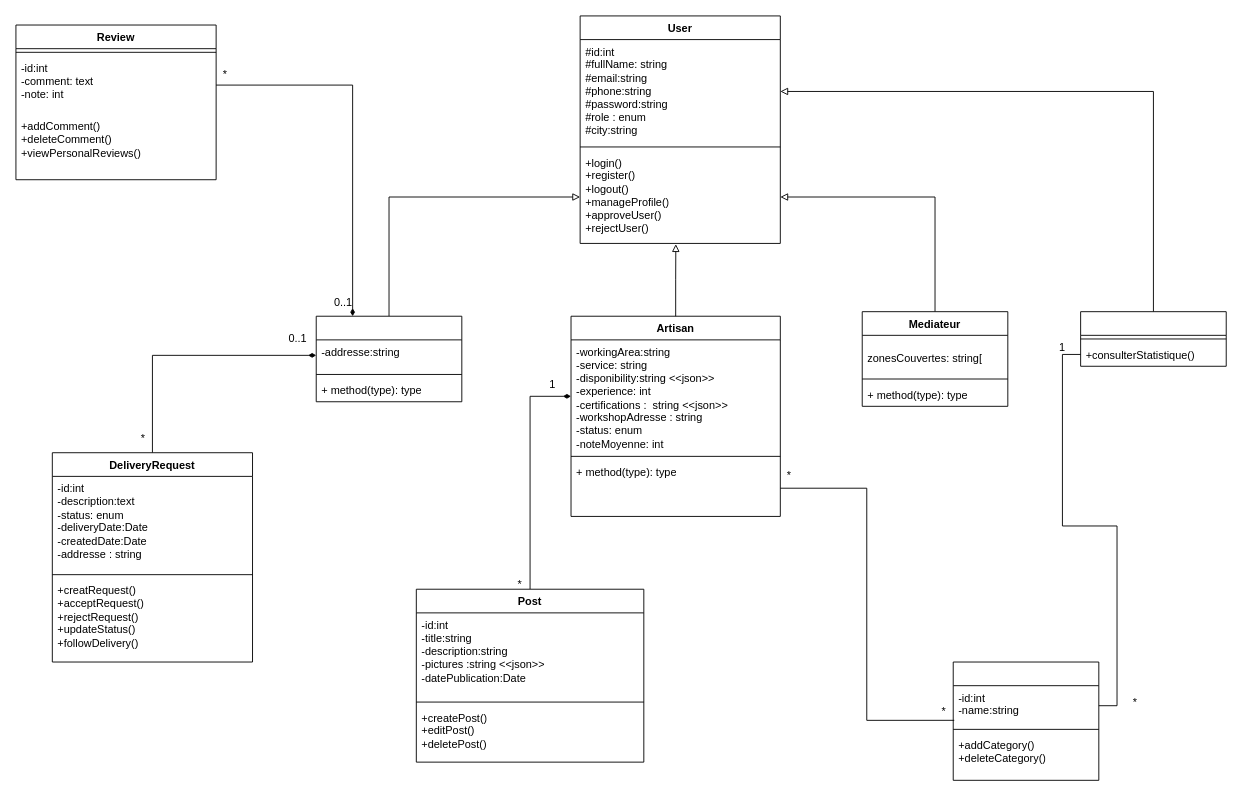
Some shapes in this 1242 by 799 pixel diagram are drawn without their labels. Each missing label, with the box of its shape:
Admin: (1080, 311, 1226, 366)
Categories: (952, 661, 1099, 780)
Client: (315, 315, 462, 402)
